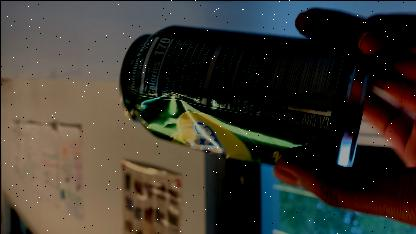Can: (118, 25, 374, 171)
